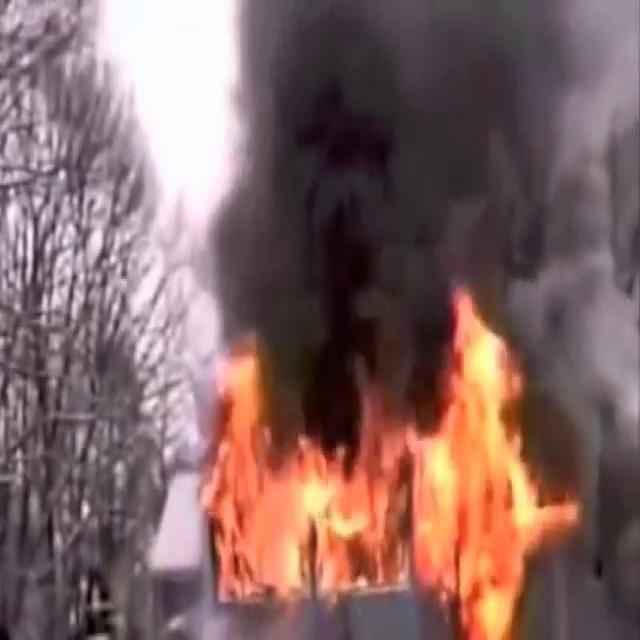Fire: (192, 298, 565, 630)
Smoke: (178, 0, 638, 405)
